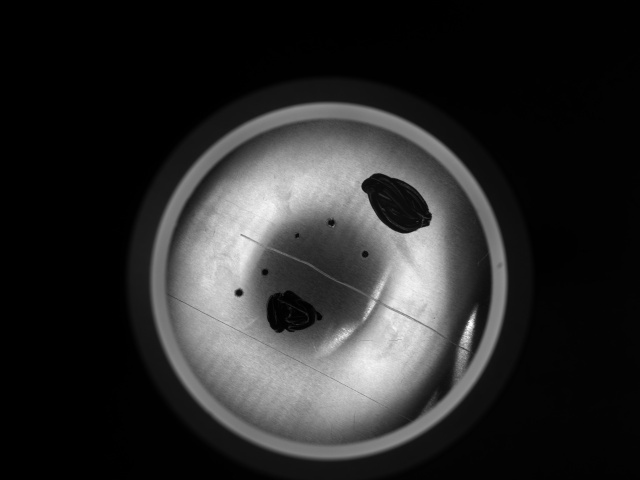ca_shang: (238, 211, 482, 364), (165, 285, 413, 423)
zang_wu: (350, 160, 438, 247), (259, 279, 337, 351)
zhen_kong: (224, 279, 254, 306), (351, 243, 382, 269), (318, 210, 345, 237), (253, 260, 279, 284), (285, 224, 310, 246)
